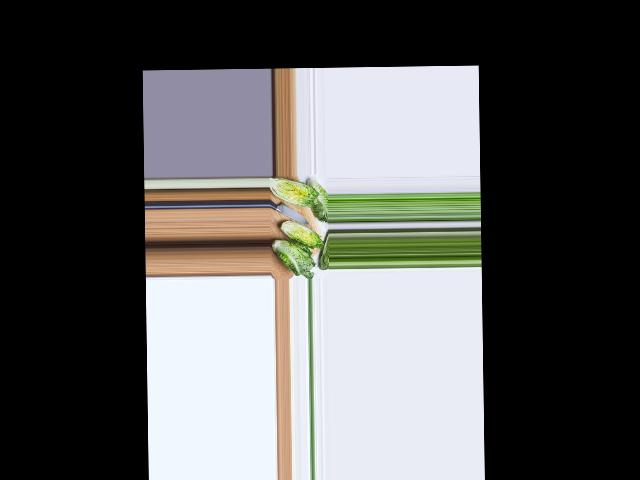lettuce: (307, 178, 326, 221)
